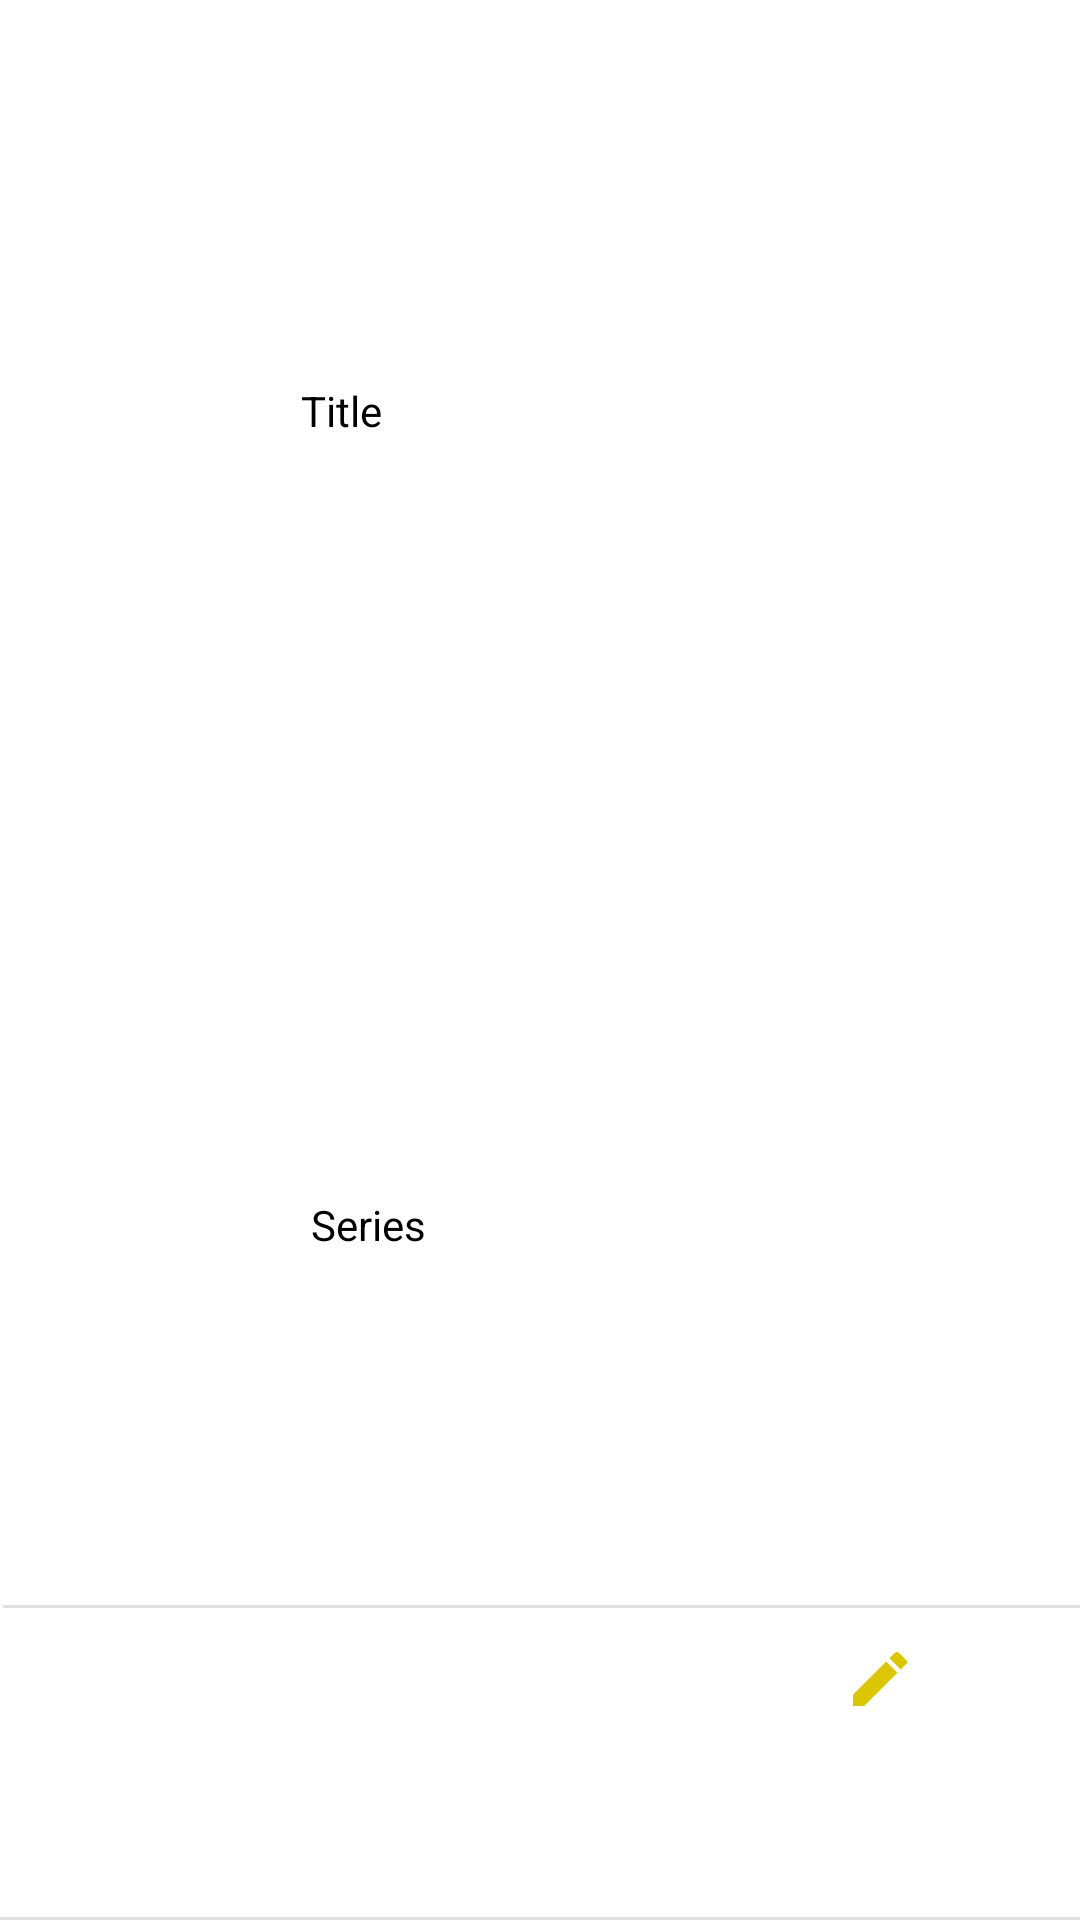

Icon click points for this 1080×1920 phone screenshot, format (x,y):
editicon: (880,1679)
